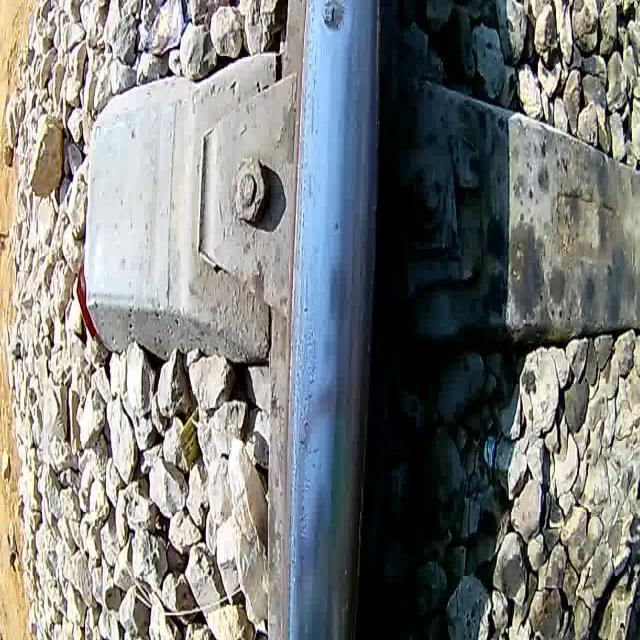Spallings: (330, 2, 337, 28)
Squats: (318, 0, 349, 35)
